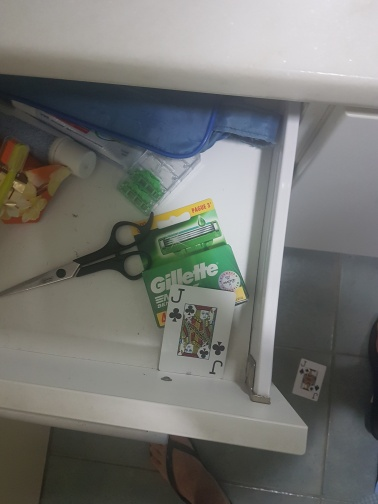jack: (159, 286, 238, 380)
